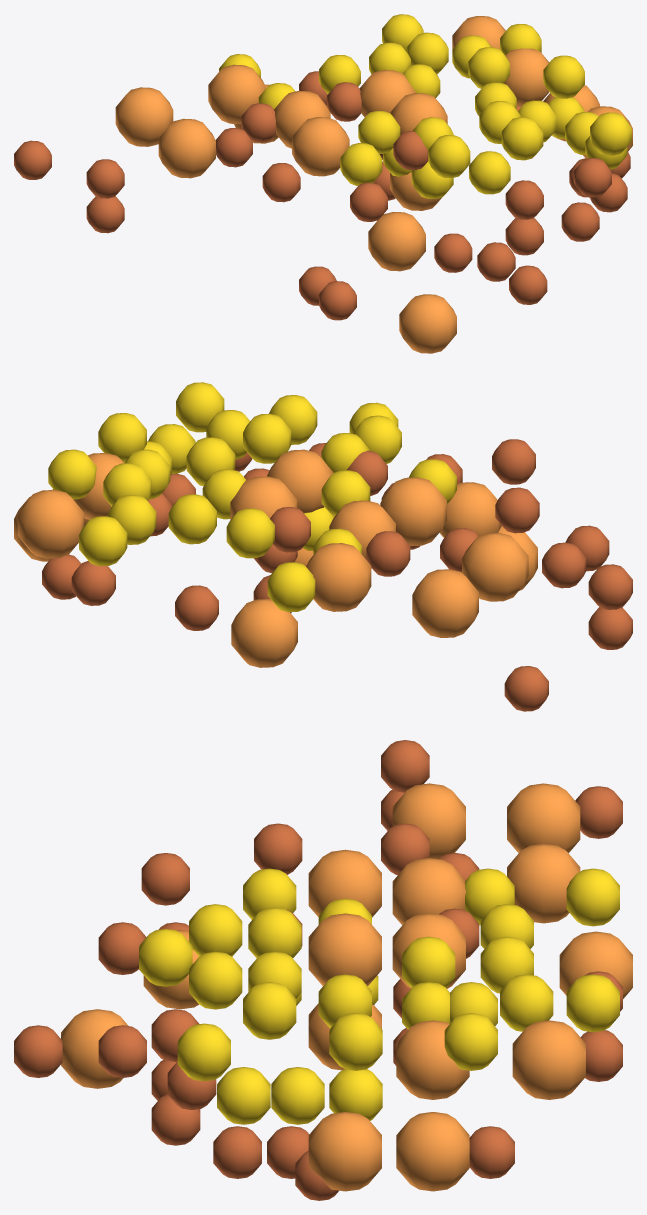
The model's file is Laba.fbx.
3 views of the same model, one above another, from view 1: azimuth 30°, elevation 25°; view 2: azimuth 150°, elevation 25°; view 3: azimuth 270°, elevation 25° (orthographic). The views are drawn at different scales.
Parts seen in each view (by area): view 1: Sphere_54, Sphere_50, Sphere_55, Sphere_51, Sphere_46, Sphere_52, Sphere_63, Sphere_49, Sphere_48, Sphere_37, Sphere_38, Sphere_59 (+44 smaller); view 2: Sphere_51, Sphere_64, Sphere_53, Sphere_50, Sphere_52, Sphere_46, Sphere_47, Sphere_55, Sphere_39, Sphere_40, Sphere_29, Sphere_28 (+40 smaller); view 3: Sphere_62, Sphere_64, Sphere_61, Sphere_47, Sphere_51, Sphere_52, Sphere_63, Sphere_50, Sphere_46, Sphere_49, Sphere_54, Sphere_53 (+44 smaller).
Boxes of the visible parts, left/top/right/bottom form: Sphere_54: left=399, top=294, right=456, bottom=353; Sphere_50: left=158, top=118, right=215, bottom=178; Sphere_55: left=368, top=212, right=425, bottom=271; Sphere_51: left=115, top=87, right=173, bottom=146; Sphere_46: left=292, top=117, right=349, bottom=176; Sphere_52: left=208, top=64, right=265, bottom=124; Sphere_63: left=504, top=48, right=549, bottom=106; Sphere_49: left=274, top=91, right=330, bottom=148; Sphere_48: left=359, top=70, right=415, bottom=117; Sphere_37: left=501, top=117, right=543, bottom=160; Sphere_38: left=428, top=135, right=470, bottom=177; Sphere_59: left=590, top=112, right=631, bottom=155; Sphere_51: left=412, top=569, right=478, bottom=637; Sphere_64: left=17, top=490, right=84, bottom=558; Sphere_53: left=231, top=599, right=297, bottom=667; Sphere_50: left=462, top=533, right=528, bottom=601; Sphere_52: left=306, top=543, right=371, bottom=611; Sphere_46: left=380, top=477, right=446, bottom=546; Sphere_47: left=267, top=449, right=333, bottom=513; Sphere_55: left=439, top=482, right=501, bottom=537; Sphere_39: left=226, top=508, right=274, bottom=558; Sphere_40: left=168, top=494, right=216, bottom=544; Sphere_29: left=79, top=516, right=127, bottom=566; Sphere_28: left=267, top=562, right=315, bottom=612; Sphere_62: left=396, top=1112, right=469, bottom=1191; Sphere_64: left=512, top=1020, right=585, bottom=1099; Sphere_61: left=308, top=1112, right=381, bottom=1191; Sphere_47: left=308, top=913, right=381, bottom=985; Sphere_51: left=507, top=783, right=580, bottom=853; Sphere_52: left=507, top=843, right=580, bottom=923; Sphere_63: left=396, top=1020, right=469, bottom=1099; Sphere_50: left=392, top=783, right=465, bottom=858; Sphere_46: left=308, top=849, right=381, bottom=917; Sphere_49: left=392, top=858, right=465, bottom=925; Sphere_54: left=61, top=1009, right=128, bottom=1088; Sphere_53: left=559, top=931, right=632, bottom=998.
Size of the model in its own units: 104 by 32.27 by 80.93.
